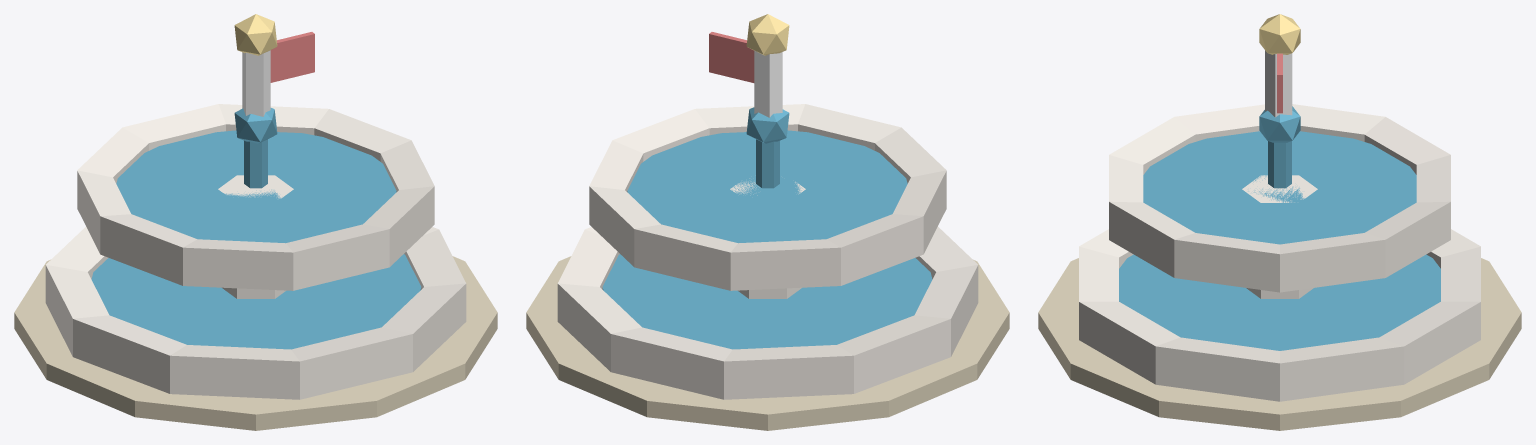
File: park-g1.glb
3 views of the same model, side by side, from view 1: azimuth 30°, elevation 25°; view 2: azimuth 150°, elevation 25°; view 3: azimuth 270°, elevation 25° (orthographic).
Parts seen in each view (by area): view 1: park-g1; view 2: park-g1; view 3: park-g1.
Part boxes in pixels (x1,y1,x2,y2): park-g1: [14, 14, 497, 430]; park-g1: [526, 14, 1009, 430]; park-g1: [1038, 14, 1521, 430].
Size of the model in its own units: 1.6 by 1.15 by 1.6.
